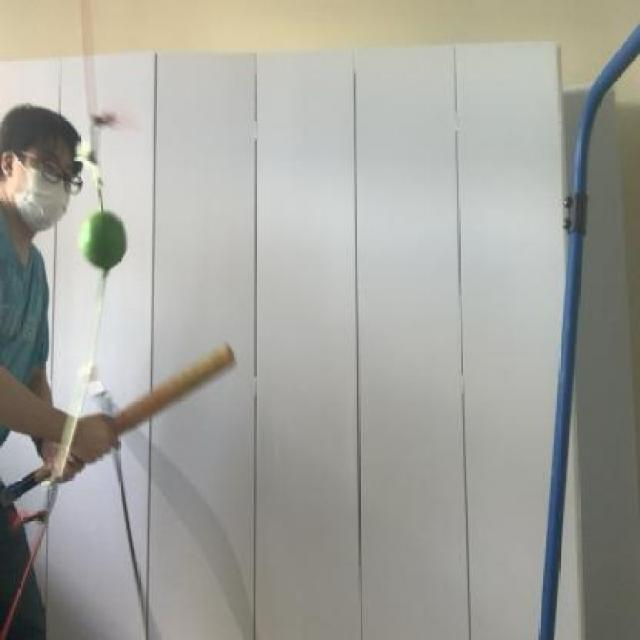baseball: (82, 204, 127, 278)
